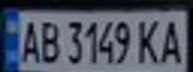1: (81, 17, 100, 65)
3: (63, 17, 84, 65)
4: (97, 17, 118, 64)
9: (112, 17, 136, 65)
A: (157, 15, 187, 65), (15, 17, 42, 64)
B: (36, 17, 60, 65)
K: (133, 16, 163, 65)
